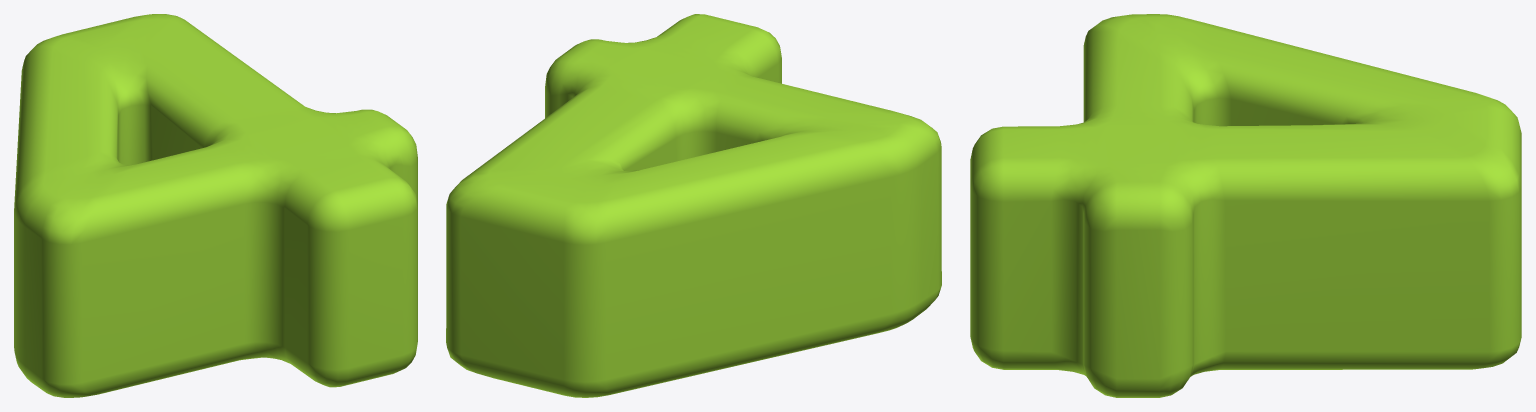
The model's file is Four.fbx.
The picture shows the model from 3 angles, left to right: view 1: azimuth 30°, elevation 25°; view 2: azimuth 150°, elevation 25°; view 3: azimuth 270°, elevation 25°; orthographic projection. The views are drawn at different scales.
Visible parts, largest first — view 1: polySurface4; view 2: polySurface4; view 3: polySurface4.
Boxes of the visible parts, box(x1,y1,x2,y2) form: polySurface4: box(14, 14, 417, 397); polySurface4: box(446, 14, 941, 397); polySurface4: box(970, 14, 1521, 397).
Bounding box in the file's own units: 0.4905 × 0.2436 × 0.5806.
Materials: 1 (1 with a texture image).
